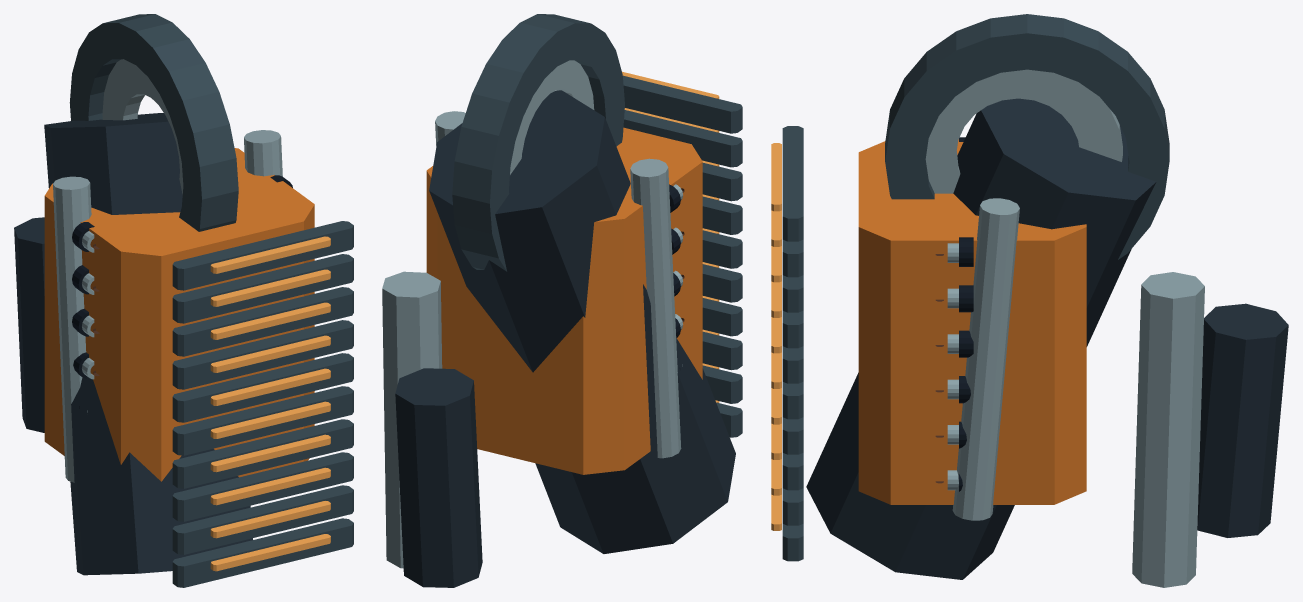
The model's file is enemy_runner_4k_thigh_l.obj.
3 views of the same model, side by side, from view 1: azimuth 30°, elevation 25°; view 2: azimuth 150°, elevation 25°; view 3: azimuth 270°, elevation 25° (orthographic). The views are drawn at different scales.
Size of the model in its own units: 0.3262 by 0.6708 by 0.5678.
